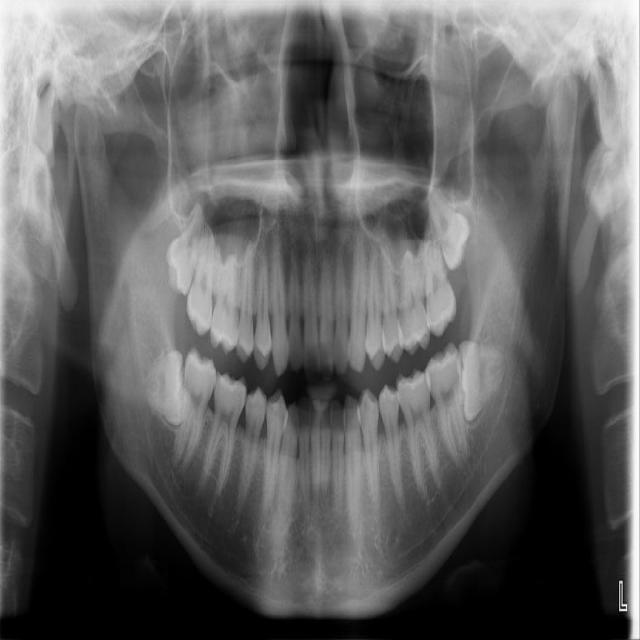impacted tooth: (459, 339, 511, 424), (425, 178, 469, 271), (165, 195, 203, 291), (140, 348, 184, 422)
